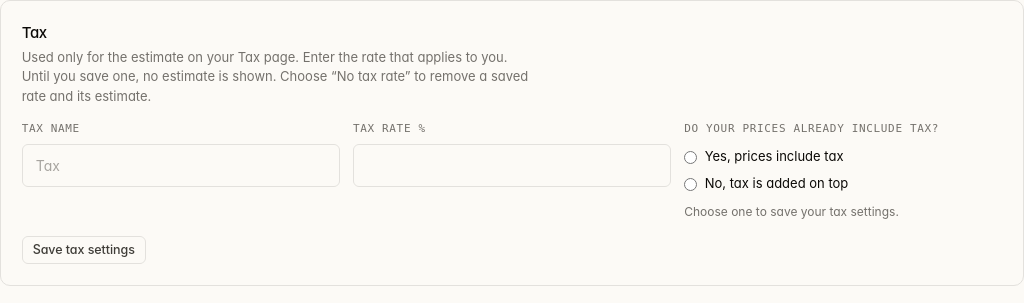
Test: TaxSettingsCard › asks whether prices include tax with nothing pre-selected, and will not save a rate until one is chosen
Expected: the text "Do your prices already include tax?" is shown, [684,121,939,138]
Expected: the radio button labelled "Yes, prices include tax" is not checked, [684,150,697,164]
Type "7.5" into the number field labelled "Tax rate %".
click(512, 165); type("7.5")  # box [353,144,671,187]
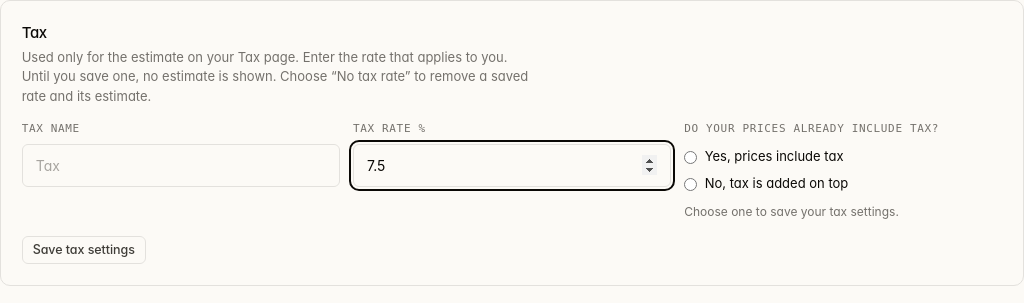
Expected: the text "Choose one to save your tax settings." is shown, [684,204,899,219]
Expected: the button "Save tax settings" is disabled, [22,236,146,264]
Click the radio button labelled "Yes, prices include tax".
click(691, 157)  # box [684,150,697,164]
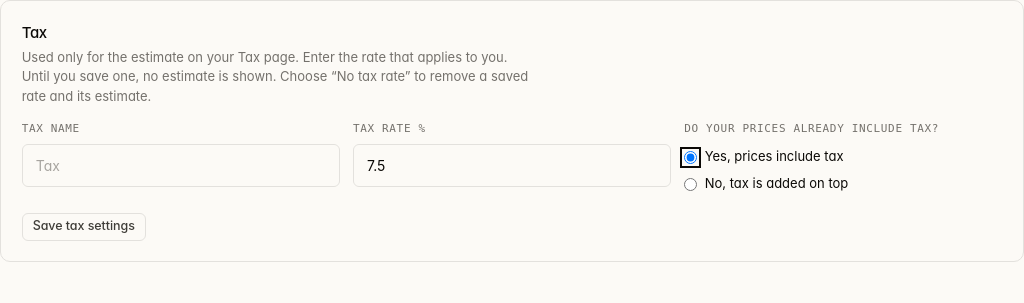
Now the button "Save tax settings" is enabled, box [22,212,146,240]
